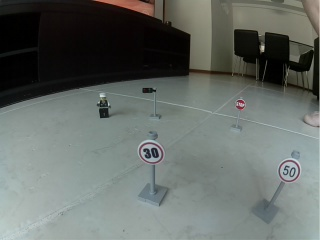Green Traffic Light: (141, 86, 162, 120)
Person: (96, 91, 112, 120)
Speed Limit 30: (138, 140, 165, 165)
Speed Limit 50: (277, 159, 301, 184)
Stop Sign: (234, 99, 246, 111)
